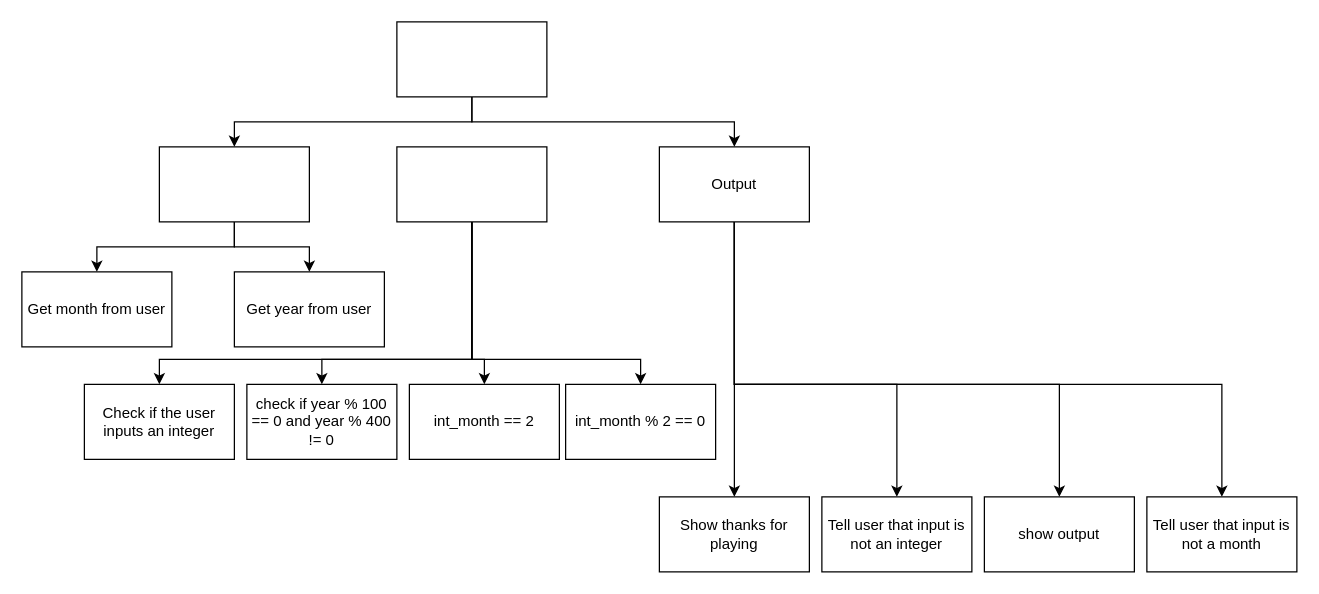
The diagram is 1319 pixels wide and 594 high, and some of its shapes have lost their labels. The centre of each missing label's shape, as x and y in pixels:
Input: point 233,184
Months program: point 471,59
Process: point 471,184
